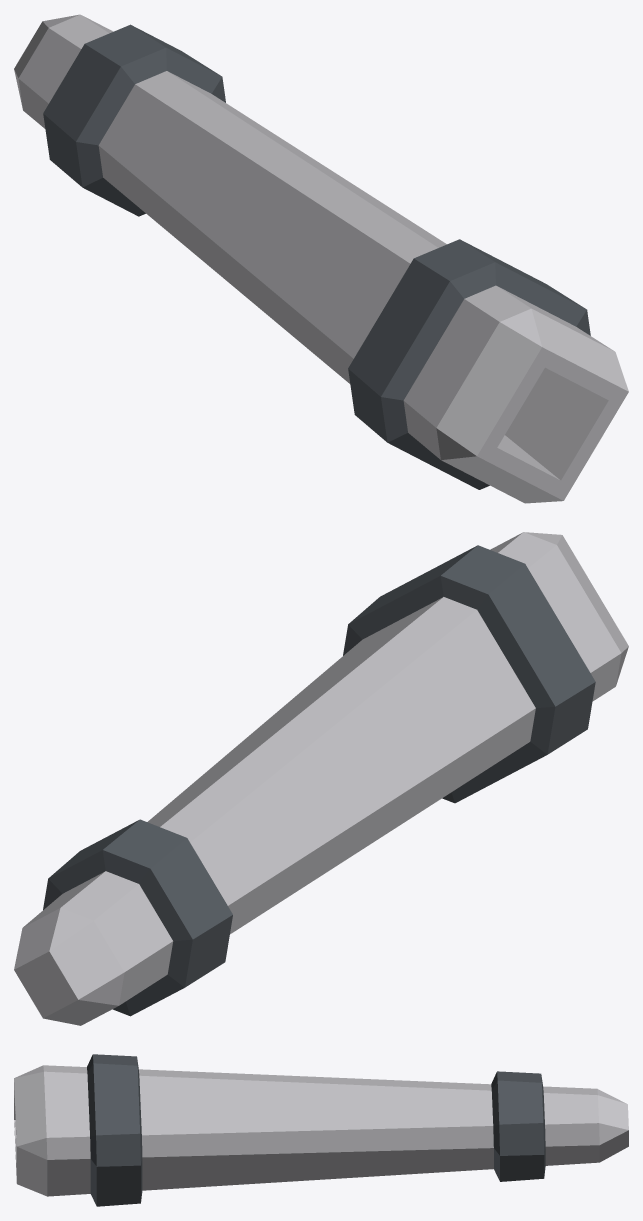
Rendered from Fighter_02_Breather.fbx.
The picture shows the model from 3 angles, top to bottom: view 1: azimuth 30°, elevation 25°; view 2: azimuth 150°, elevation 25°; view 3: azimuth 270°, elevation 25°; orthographic projection. The views are drawn at different scales.
Visible parts, largest first — view 1: Fighter_02_Breather; view 2: Fighter_02_Breather; view 3: Fighter_02_Breather.
Part boxes in pixels (x1=…): Fighter_02_Breather: x1=14, y1=14, x2=628, y2=503; Fighter_02_Breather: x1=14, y1=532, x2=628, y2=1025; Fighter_02_Breather: x1=14, y1=1054, x2=628, y2=1206.
Bounding box in the file's own units: 32.38 × 32.41 × 130.
Materials: 1 (1 with a texture image).
